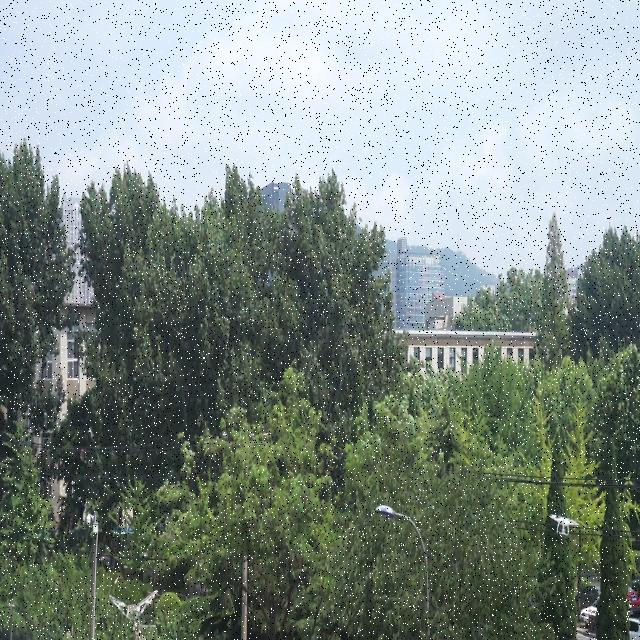UAV: (548, 514, 580, 536)
